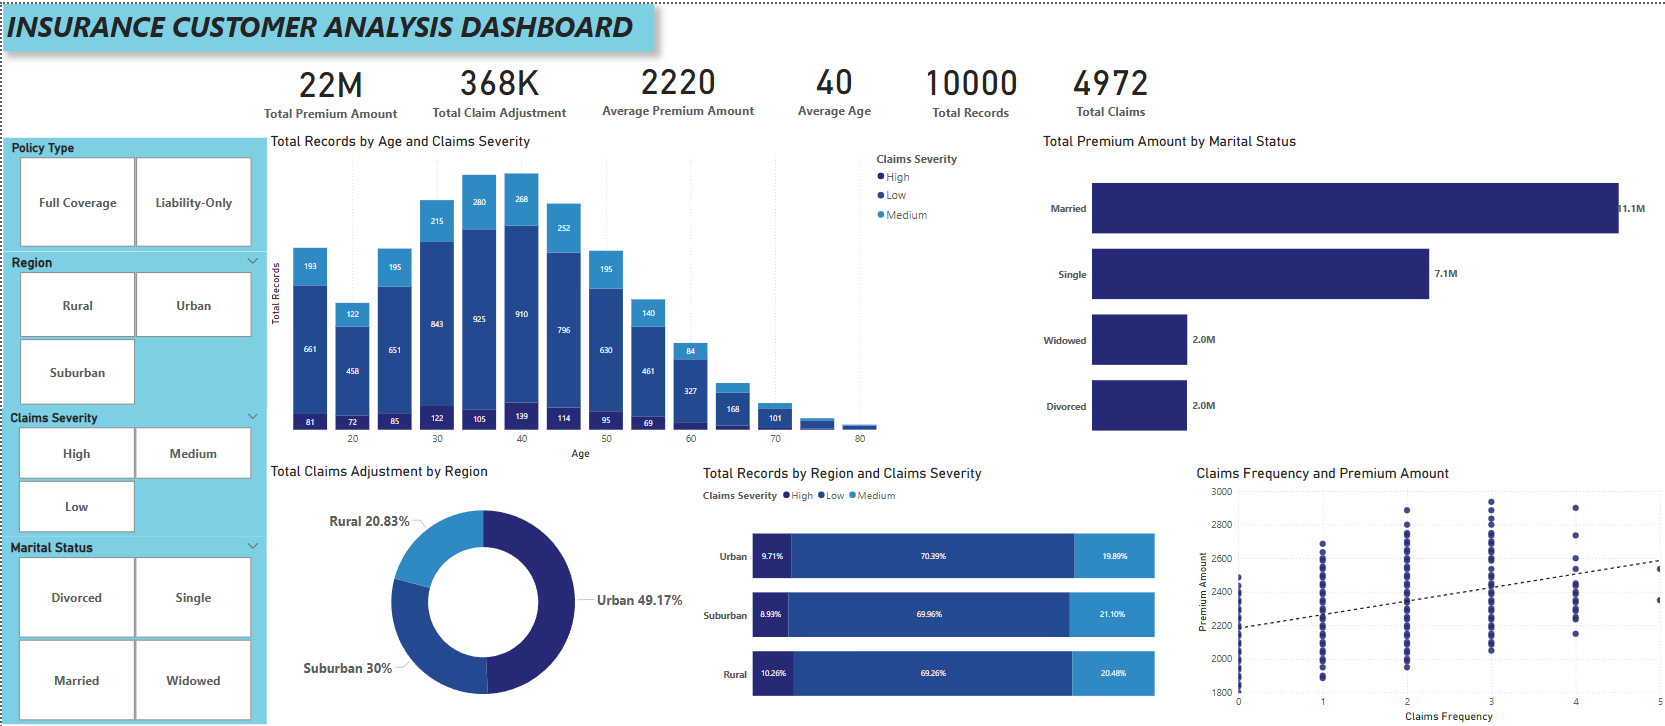

This screenshot's page, from the dashboard's own definition file:
{"tool":"powerbi","page":{"name":"Page 1","canvas":[2560,1440],"ordinal":0},"visuals":[{"type":"card","fields":{"Values":["Sum(synthetic_insurance_data.Claims_Frequency)"]},"box":[1578.8,55.8,253.8,140.4],"z":0},{"type":"card","fields":{"Values":["CountNonNull(synthetic_insurance_data.Age)"]},"box":[1376.9,59.6,226.9,134.6],"z":1000},{"type":"card","fields":{"Values":["Avg(synthetic_insurance_data.Premium_Amount)"]},"box":[907.7,59.6,265.4,130.8],"z":2000},{"type":"card","fields":{"Values":["Avg(synthetic_insurance_data.Age)"]},"box":[1171.2,59.6,219.2,130.8],"z":3000},{"type":"columnChart","fields":{"Y":["synthetic_insurance_data.Total Records"],"Category":["synthetic_insurance_data.Age (bins)"],"Series":["synthetic_insurance_data.Claims_Severity"]},"box":[407.3,198.2,1081.8,507.3],"z":4000},{"type":"donutChart","fields":{"Category":["synthetic_insurance_data.Region"],"Y":["Sum(synthetic_insurance_data.Claims_Adjustment)"]},"box":[407.3,705.5,665.5,405.5],"z":5000},{"type":"hundredPercentStackedBarChart","fields":{"Category":["synthetic_insurance_data.Region"],"Series":["synthetic_insurance_data.Claims_Severity"],"Y":["synthetic_insurance_data.Total Records"]},"box":[1072.7,709.1,705.5,400],"z":6000},{"type":"scatterChart","fields":{"X":["synthetic_insurance_data.Claims_Frequency"],"Y":["synthetic_insurance_data.Premium_Amount"]},"box":[1832.7,709.1,727.3,400],"z":7000},{"type":"card","fields":{"Values":["Sum(synthetic_insurance_data.Claims_Adjustment)"]},"box":[638.5,57.7,253.8,138.5],"z":8000},{"type":"barChart","fields":{"Category":["synthetic_insurance_data.Marital_Status"],"Y":["Sum(synthetic_insurance_data.Premium_Amount)"]},"box":[1596.4,198.2,936.4,507.3],"z":9000},{"type":"card","fields":{"Values":["Sum(synthetic_insurance_data.Premium_Amount)"]},"box":[388.5,59.6,234.6,140.4],"z":10000},{"type":"slicer","fields":{"Values":["synthetic_insurance_data.Region"]},"box":[1.8,380,405.5,241.8],"z":11000},{"type":"slicer","fields":{"Values":["synthetic_insurance_data.Policy_Type"]},"box":[1.8,205.5,405.5,174.5],"z":12000},{"type":"slicer","fields":{"Values":["synthetic_insurance_data.Marital_Status"]},"box":[0,820,407.3,289.1],"z":13000},{"type":"slicer","fields":{"Values":["synthetic_insurance_data.Claims_Severity"]},"box":[0,621.8,407.3,198.2],"z":14000},{"type":"textbox","box":[1.9,0,1001.9,73.1],"z":15000}]}

Visuals, with their boxes on the page's 2560x1440 design canvas (x1, y1, x2, y2). These are canvas units, not pixel positions in the 1665x726 screenshot, which may show the page scaled, cropped or inside an application window:
card - Sum(synthetic_insurance_data.Claims_Frequency): (left=1579, top=56, right=1833, bottom=196)
card - CountNonNull(synthetic_insurance_data.Age): (left=1377, top=60, right=1604, bottom=194)
card - Avg(synthetic_insurance_data.Premium_Amount): (left=908, top=60, right=1173, bottom=190)
card - Avg(synthetic_insurance_data.Age): (left=1171, top=60, right=1390, bottom=190)
columnChart - synthetic_insurance_data.Total Records x synthetic_insurance_data.Age (bins): (left=407, top=198, right=1489, bottom=706)
donutChart - synthetic_insurance_data.Region x Sum(synthetic_insurance_data.Claims_Adjustment): (left=407, top=706, right=1073, bottom=1111)
hundredPercentStackedBarChart - synthetic_insurance_data.Region x synthetic_insurance_data.Claims_Severity: (left=1073, top=709, right=1778, bottom=1109)
scatterChart - synthetic_insurance_data.Claims_Frequency x synthetic_insurance_data.Premium_Amount: (left=1833, top=709, right=2560, bottom=1109)
card - Sum(synthetic_insurance_data.Claims_Adjustment): (left=638, top=58, right=892, bottom=196)
barChart - synthetic_insurance_data.Marital_Status x Sum(synthetic_insurance_data.Premium_Amount): (left=1596, top=198, right=2533, bottom=706)
card - Sum(synthetic_insurance_data.Premium_Amount): (left=388, top=60, right=623, bottom=200)
slicer - synthetic_insurance_data.Region: (left=2, top=380, right=407, bottom=622)
slicer - synthetic_insurance_data.Policy_Type: (left=2, top=206, right=407, bottom=380)
slicer - synthetic_insurance_data.Marital_Status: (left=0, top=820, right=407, bottom=1109)
slicer - synthetic_insurance_data.Claims_Severity: (left=0, top=622, right=407, bottom=820)
textbox: (left=2, top=0, right=1004, bottom=73)
